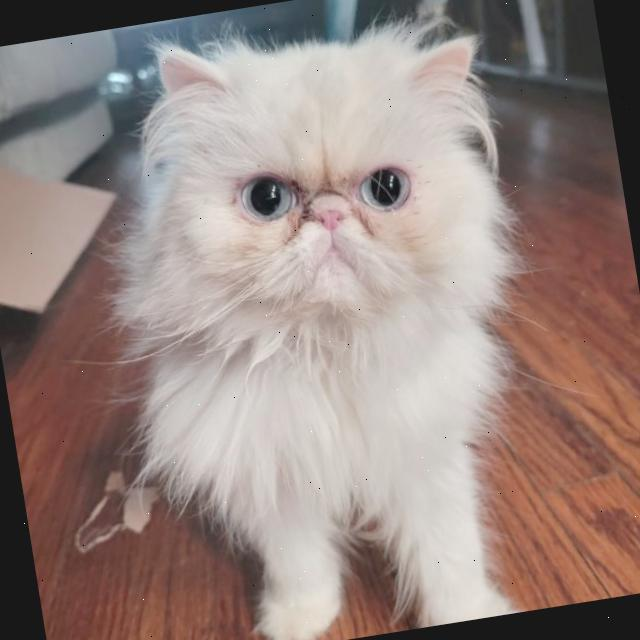persian_cat: (60, 0, 554, 410)
